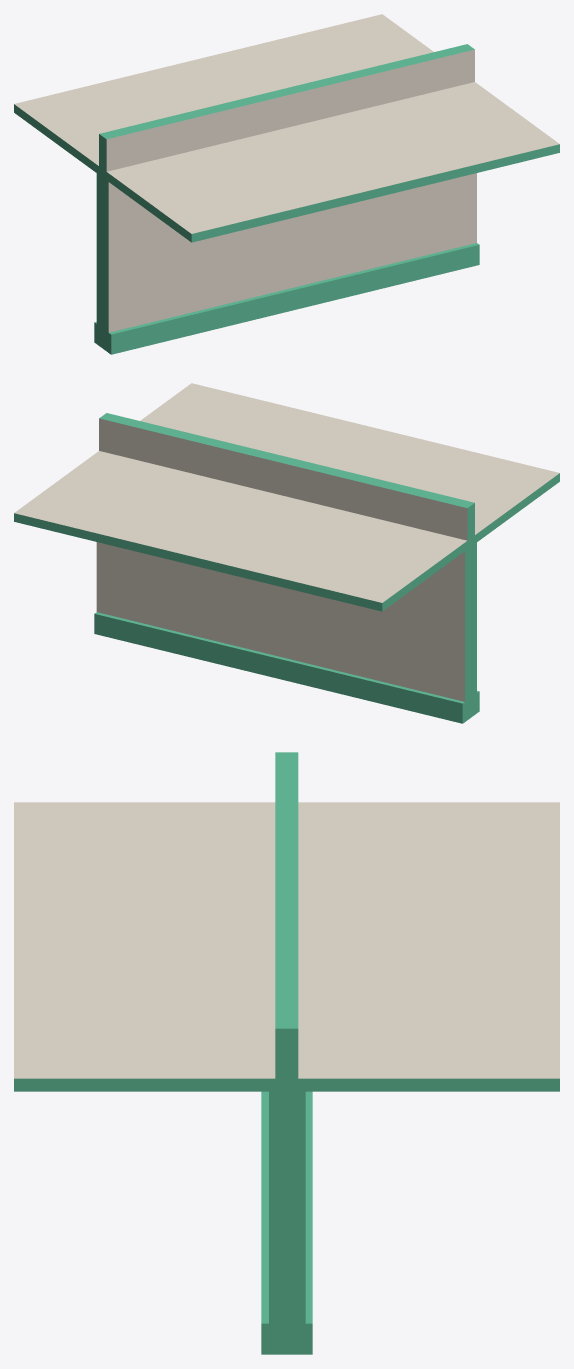
File: table.FBX
3 renders of one model, top to bottom at view 1: azimuth 30°, elevation 25°; view 2: azimuth 150°, elevation 25°; view 3: azimuth 270°, elevation 25°, orthographic. The views are drawn at different scales.
Parts seen in each view (by area): view 1: Box002; view 2: Box002; view 3: Box002.
Boxes of the visible parts, x1,y1,x2,y2 form: Box002: (14,14,559,354); Box002: (14,383,559,723); Box002: (14,752,559,1354).
Bounding box in the file's own units: 4016 × 2210 × 3354.
1 material, 1 textured.
